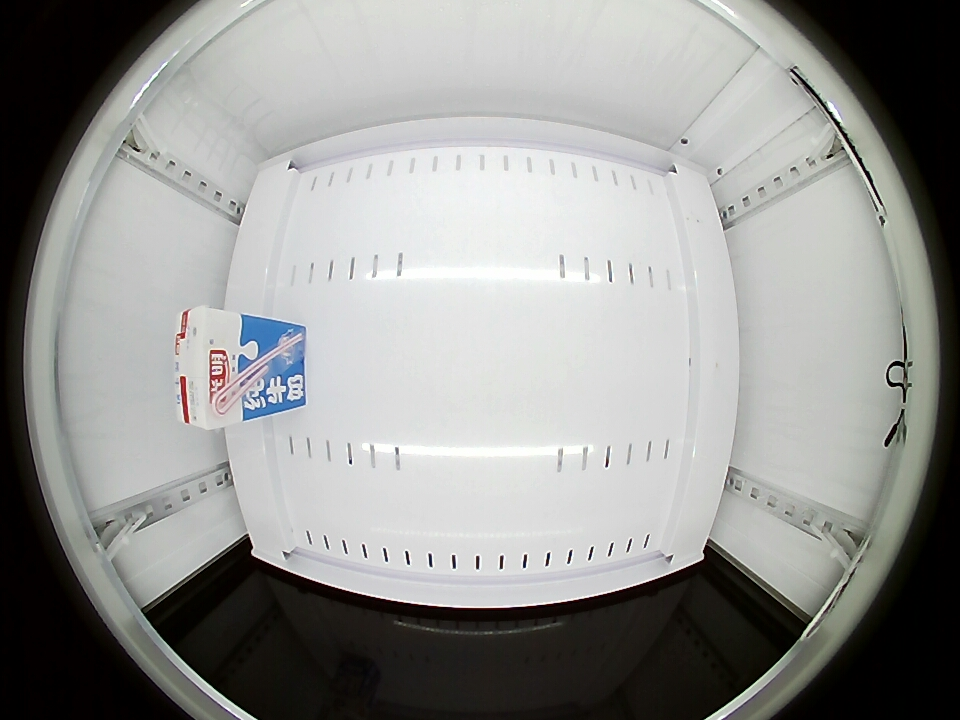niunai: (174, 306, 253, 430)
